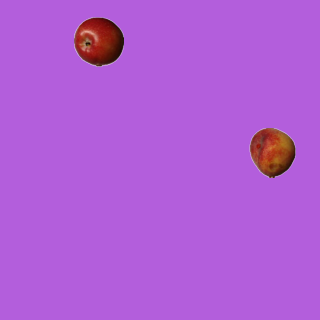Apple Braeburn: (73, 16, 123, 66)
Peach: (247, 127, 297, 177)
